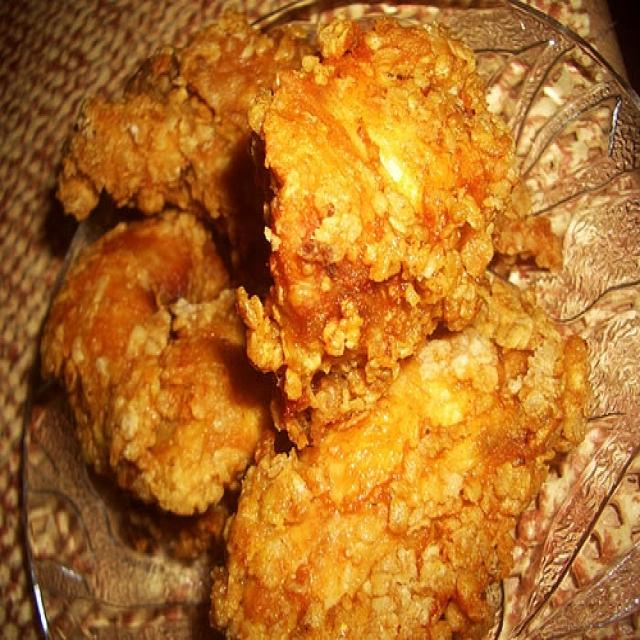鸡肉料理 含炸鸡: (54, 55, 577, 609)
